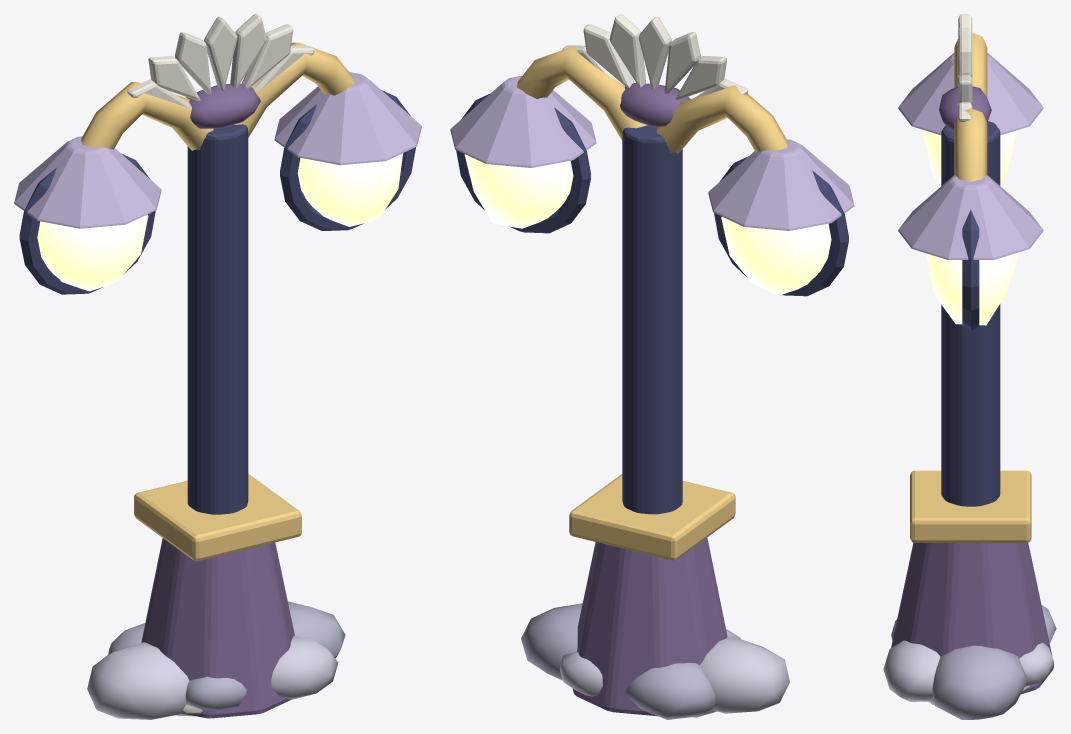
Rendered from lagoon_story_lantern.glb.
3 renders of one model, left to right at view 1: azimuth 30°, elevation 25°; view 2: azimuth 150°, elevation 25°; view 3: azimuth 270°, elevation 25°, orthographic. The views are drawn at different scales.
Parts seen in each view (by area): view 1: lagoon_story_lantern.001; view 2: lagoon_story_lantern.001; view 3: lagoon_story_lantern.001.
Part boxes in pixels (x1=…): lagoon_story_lantern.001: x1=14, y1=14, x2=421, y2=719; lagoon_story_lantern.001: x1=450, y1=14, x2=854, y2=719; lagoon_story_lantern.001: x1=883, y1=14, x2=1056, y2=719.
Bounding box in the file's own units: 3.2 × 5.28 × 1.25.
